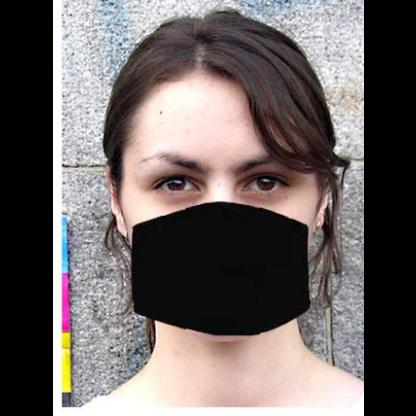Fabric/Cloth Mask: (124, 105, 322, 343)
